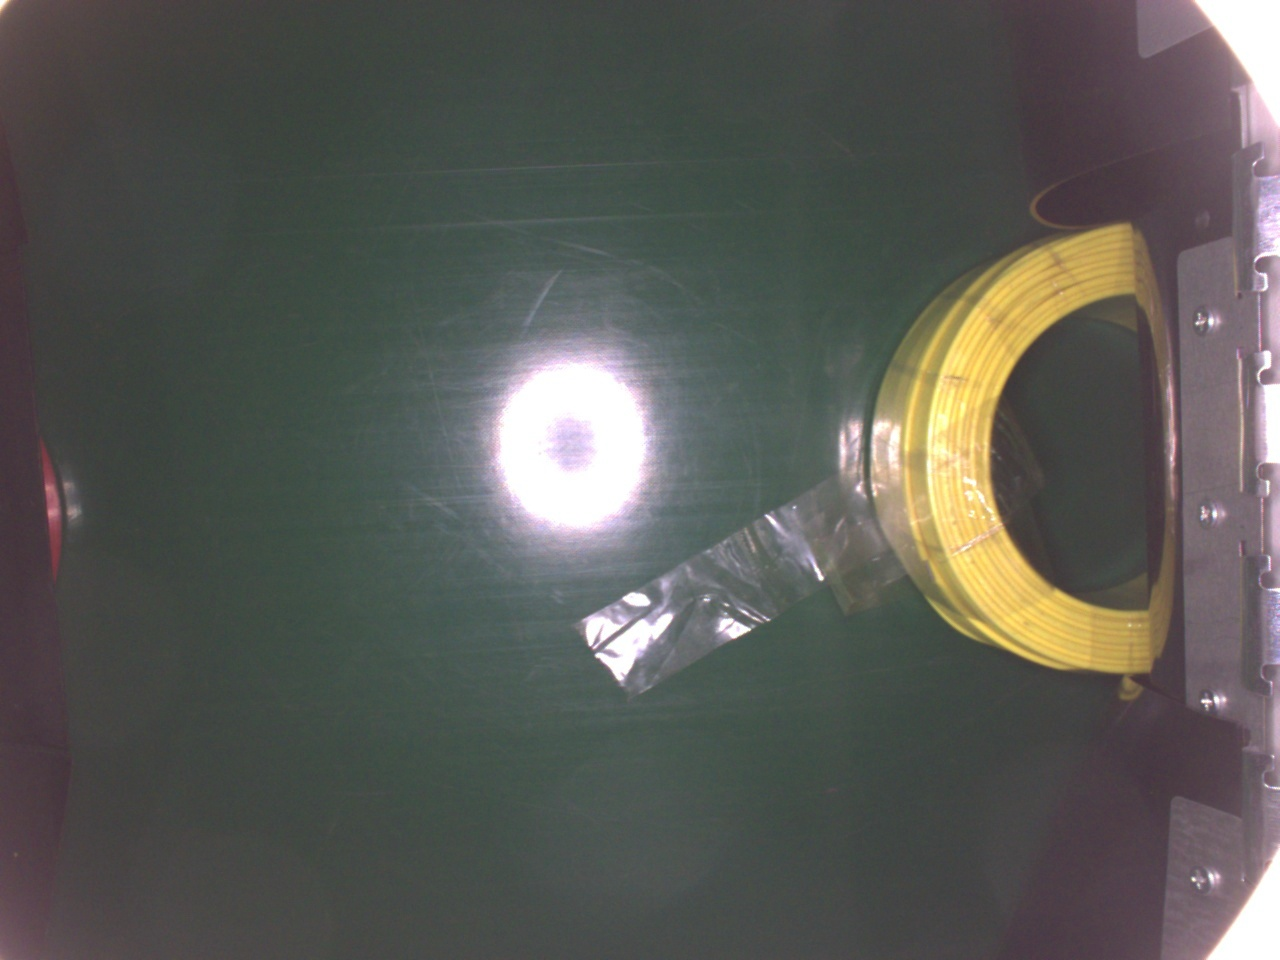yellow: (864, 221, 1154, 679)
